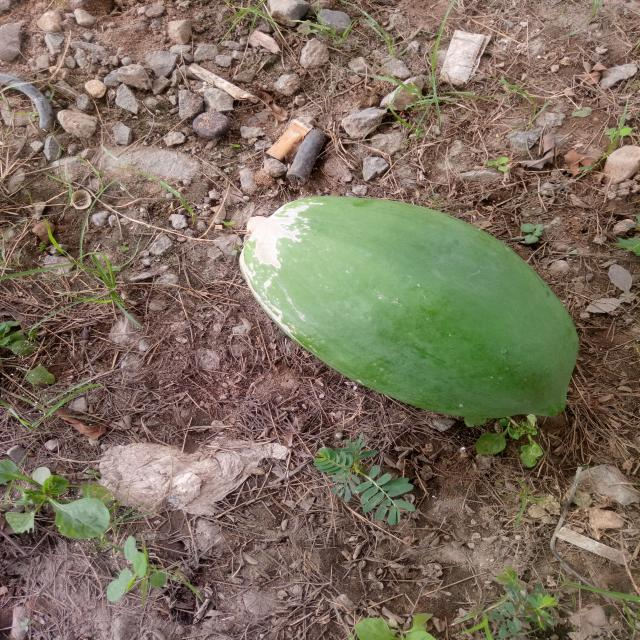Pepaya unrippen: (236, 185, 577, 420)
